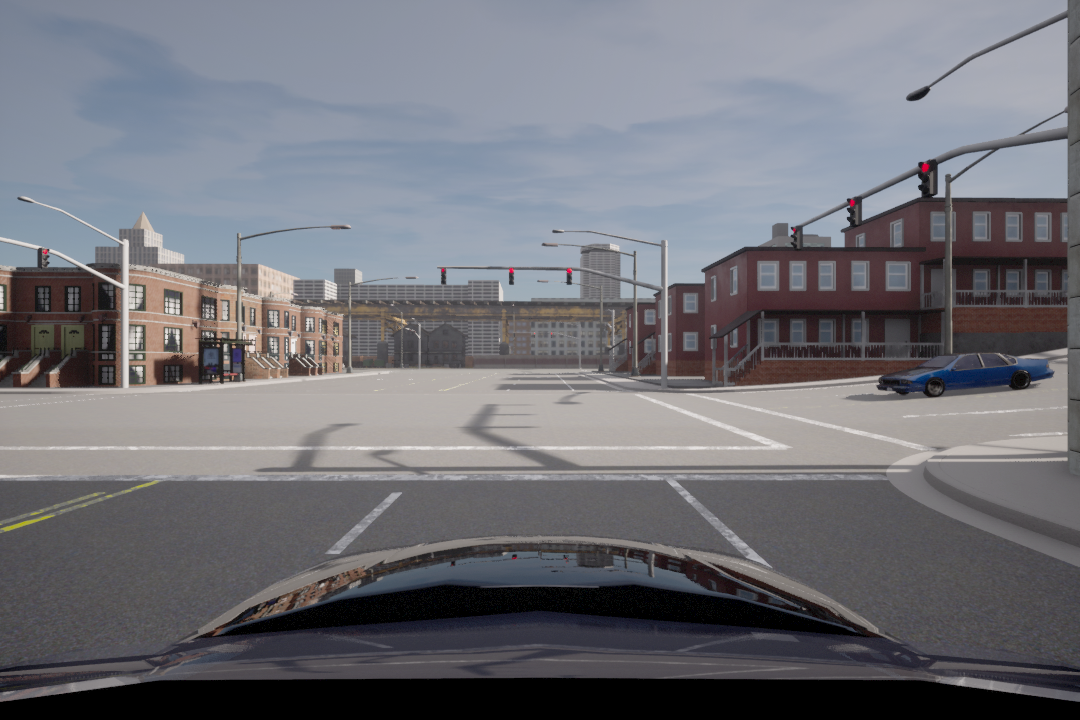TrafficLight: (915, 154, 944, 198), (841, 197, 867, 233), (786, 221, 807, 253), (36, 242, 52, 269), (564, 264, 576, 292), (440, 265, 451, 287), (507, 264, 517, 284)
